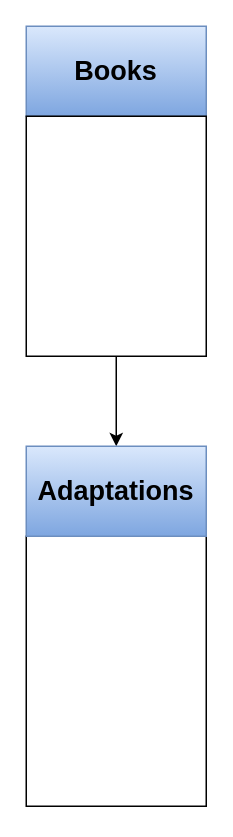
This 233x837 diagram has some shape labels left out. Each missing label, with the box of its shape:
Title Author Date of Publication Image URL Description: (25, 115, 206, 356)
Title Date of Release Comparison to Book Image URL Book ID: (25, 535, 206, 806)
